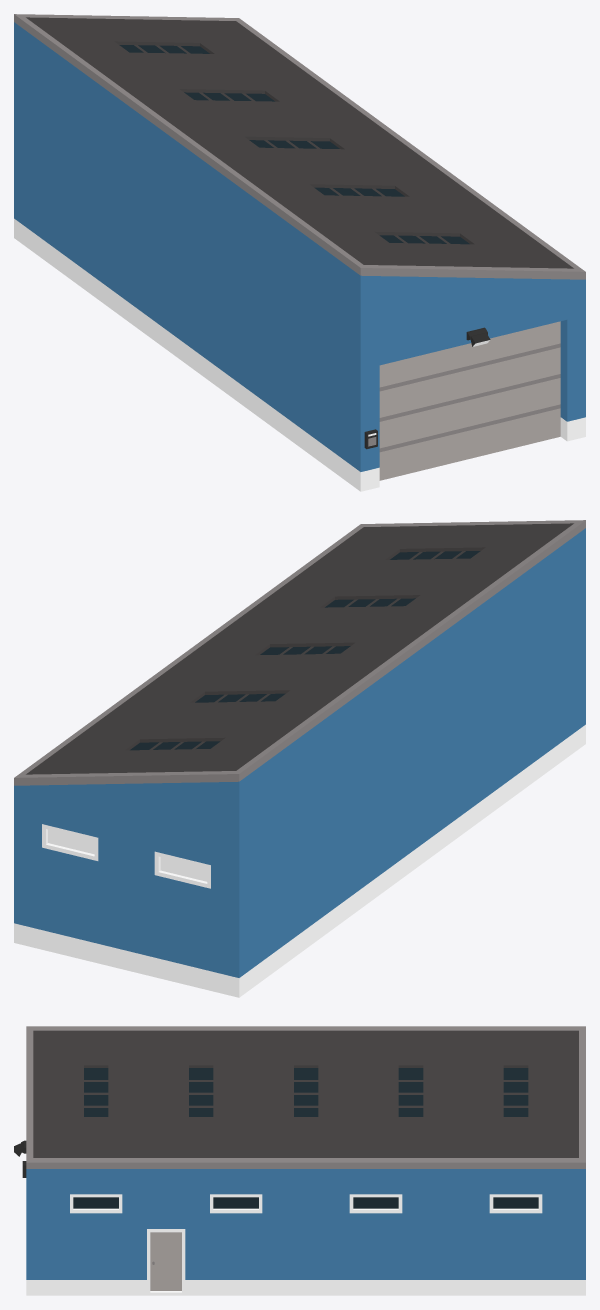
The model's file is industry-storage.glb.
3 renders of one model, top to bottom at view 1: azimuth 30°, elevation 25°; view 2: azimuth 150°, elevation 25°; view 3: azimuth 270°, elevation 25°, orthographic. The views are drawn at different scales.
Parts seen in each view (by area): view 1: industry-storage; view 2: industry-storage; view 3: industry-storage.
Boxes of the visible parts, box(x1,y1,x2,y2) form: industry-storage: box(14, 14, 585, 491); industry-storage: box(14, 520, 585, 997); industry-storage: box(14, 1026, 585, 1295).
Bounding box in the file's own units: 6 × 5.7 × 16.35.
Materials: 1 (1 with a texture image).
